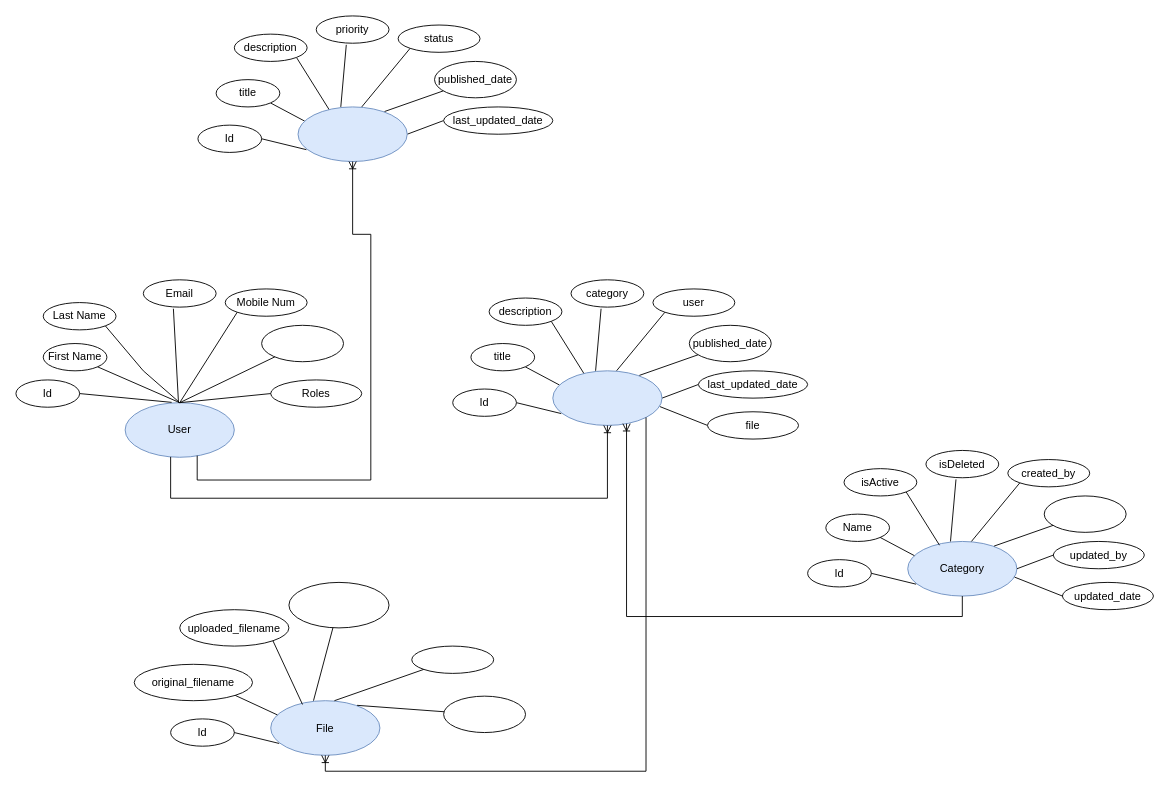
Image size: 1169x794. Some labels were removed from this diagram. The shapes that lost their labels are listed below. From the top down, each one's box as (x1, y1, x2, y2) in pixels, then its label:
(297, 106, 407, 162): To Do
(261, 324, 344, 362): Password
(552, 370, 662, 425): Notes
(1043, 495, 1126, 532): created_date
(288, 581, 389, 628): display_filename
(411, 645, 494, 673): file_size
(443, 695, 526, 733): path
